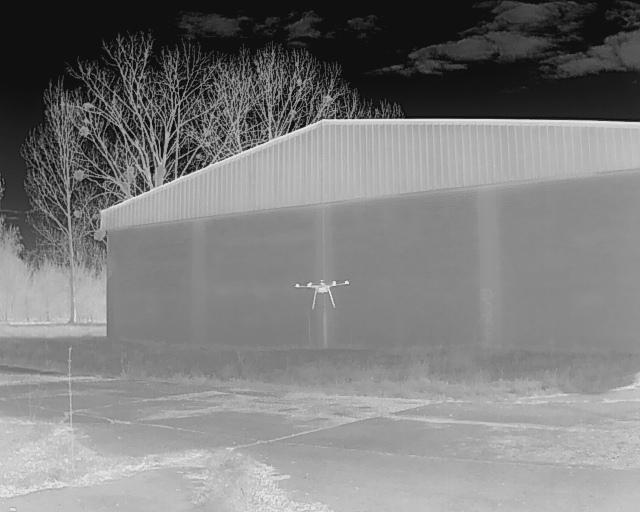drone: (286, 270, 357, 320)
